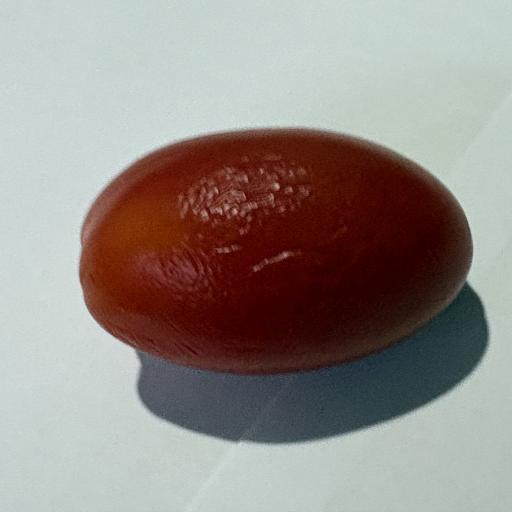spoiled: (80, 129, 472, 374)
